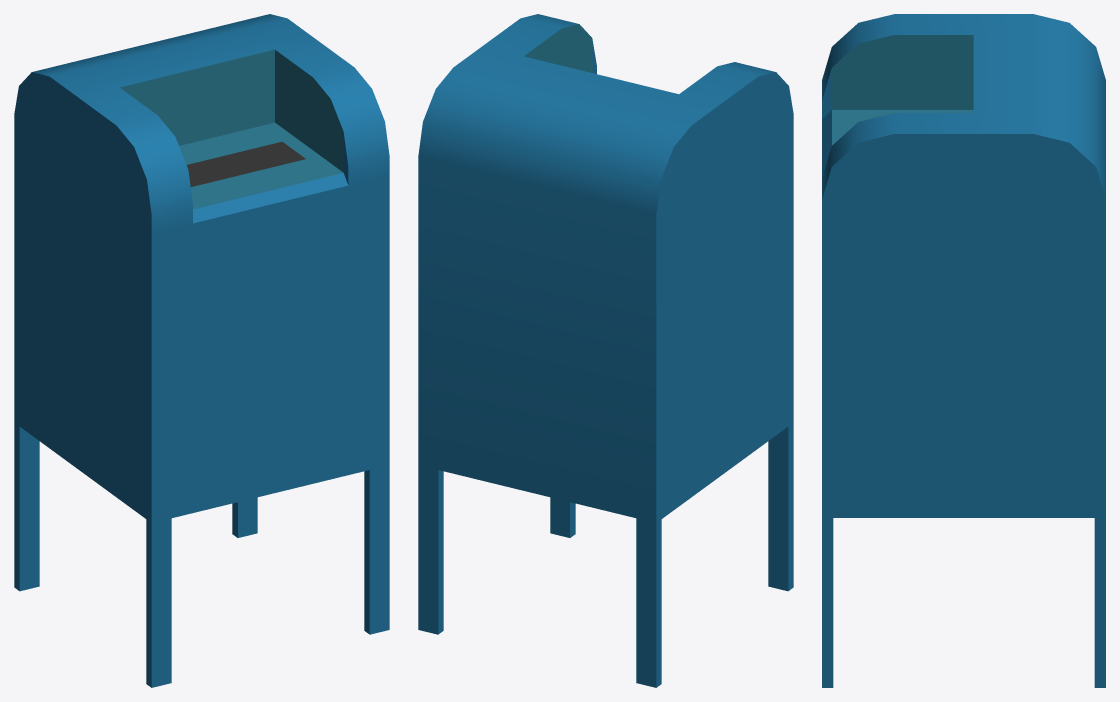
Rendered from mailbox_01.fbx.
The picture shows the model from 3 angles, left to right: view 1: azimuth 30°, elevation 25°; view 2: azimuth 150°, elevation 25°; view 3: azimuth 270°, elevation 25°; orthographic projection. The views are drawn at different scales.
Visible parts, largest first — view 1: mailbox_01; view 2: mailbox_01; view 3: mailbox_01.
Part boxes in pixels (left/top/right/bottom): mailbox_01: left=14, top=14, right=389, bottom=687; mailbox_01: left=418, top=14, right=793, bottom=687; mailbox_01: left=822, top=14, right=1105, bottom=687.
Size of the model in its own units: 0.5935 by 1.28 by 0.5935.
